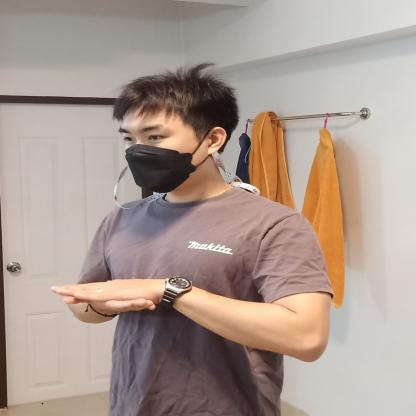Love: (34, 236, 187, 330)
